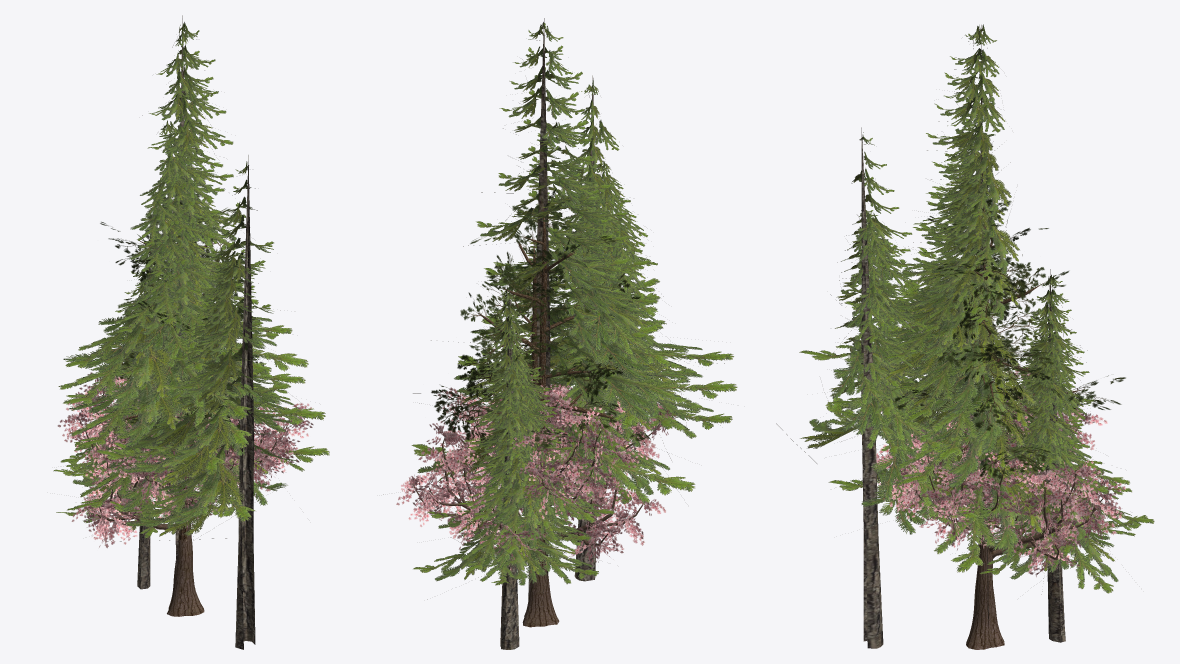
Rendered from trees_raw.glb.
3 views of the same model, side by side, from view 1: azimuth 30°, elevation 25°; view 2: azimuth 150°, elevation 25°; view 3: azimuth 270°, elevation 25° (orthographic). The views are drawn at different scales.
Visible parts, largest first — view 1: Fir_A, Fir_B, Sakura, Pine_1, Pine_3; view 2: Fir_B, Fir_A, Sakura, Pine_3, Pine_1, Pine_2; view 3: Fir_A, Fir_B, Sakura, Pine_3, Pine_1, Pine_2.
Boxes of the visible parts, <box> form: Fir_A: <box>58,15,329,568</box>; Fir_B: <box>53,155,300,649</box>; Sakura: <box>57,372,313,616</box>; Pine_1: <box>89,183,263,550</box>; Pine_3: <box>110,224,264,444</box>; Fir_B: <box>413,75,732,649</box>; Fir_A: <box>383,18,737,599</box>; Sakura: <box>396,371,676,627</box>; Pine_3: <box>431,218,625,459</box>; Pine_1: <box>460,183,650,564</box>; Pine_2: <box>471,255,597,430</box>; Fir_A: <box>799,24,1057,625</box>; Fir_B: <box>776,127,1154,648</box>; Sakura: <box>876,362,1125,649</box>; Pine_3: <box>917,233,1050,478</box>; Pine_1: <box>895,185,1125,546</box>; Pine_2: <box>947,264,1059,537</box>.
Bounding box in the file's own units: 10.08 × 18 × 10.23.
Materials: 6 (6 with a texture image).
